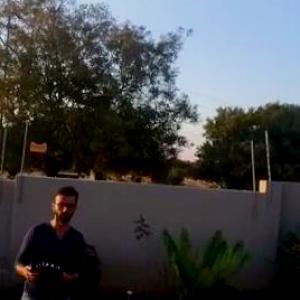follow: (7, 177, 92, 299)
